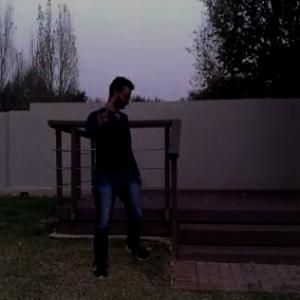takeoff-hand: (87, 98, 113, 132)
